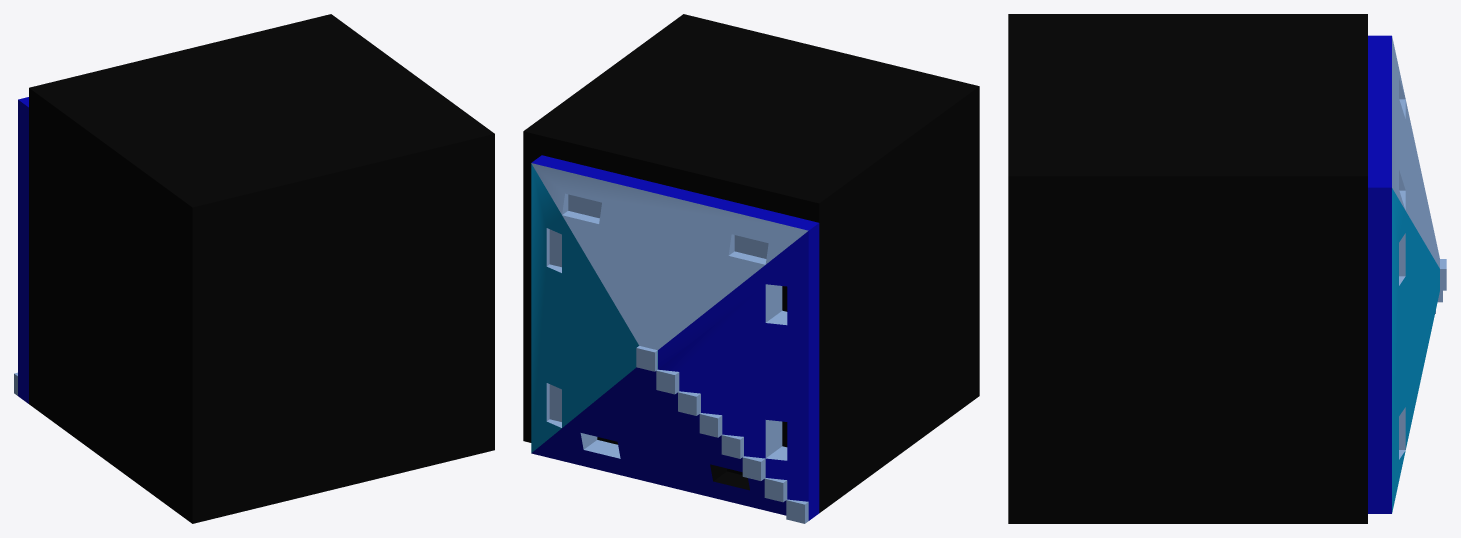
The model's file is br-m-spikecube-aqua.fbx.
3 renders of one model, left to right at view 1: azimuth 30°, elevation 25°; view 2: azimuth 150°, elevation 25°; view 3: azimuth 270°, elevation 25°, orthographic. The views are drawn at different scales.
Visible parts, largest first — view 1: block, face; view 2: block, face; view 3: block, face.
Boxes of the visible parts, bbox=[...] form: block: bbox=[29, 14, 494, 523]; face: bbox=[14, 97, 28, 403]; block: bbox=[523, 14, 979, 512]; face: bbox=[531, 155, 819, 523]; block: bbox=[1008, 14, 1367, 523]; face: bbox=[1368, 35, 1446, 513].
Bounding box in the file's own units: 1 × 1 × 1.14.
